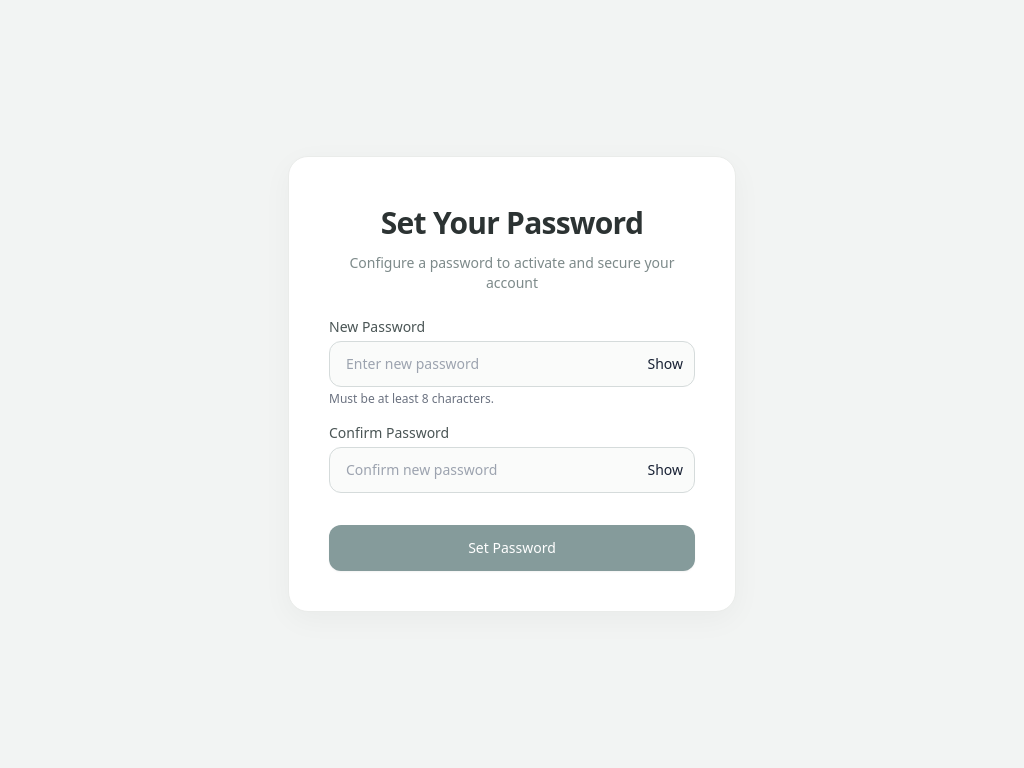
Test case: ResetPasswordConfirmPage › renders fields and handles success flow
Expected: the password field labelled "Confirm Password" is shown, left=329, top=447, right=695, bottom=493
Type "NewPassword123!" into the password field labelled "New Password" at (512, 364), box left=329, top=341, right=695, bottom=387
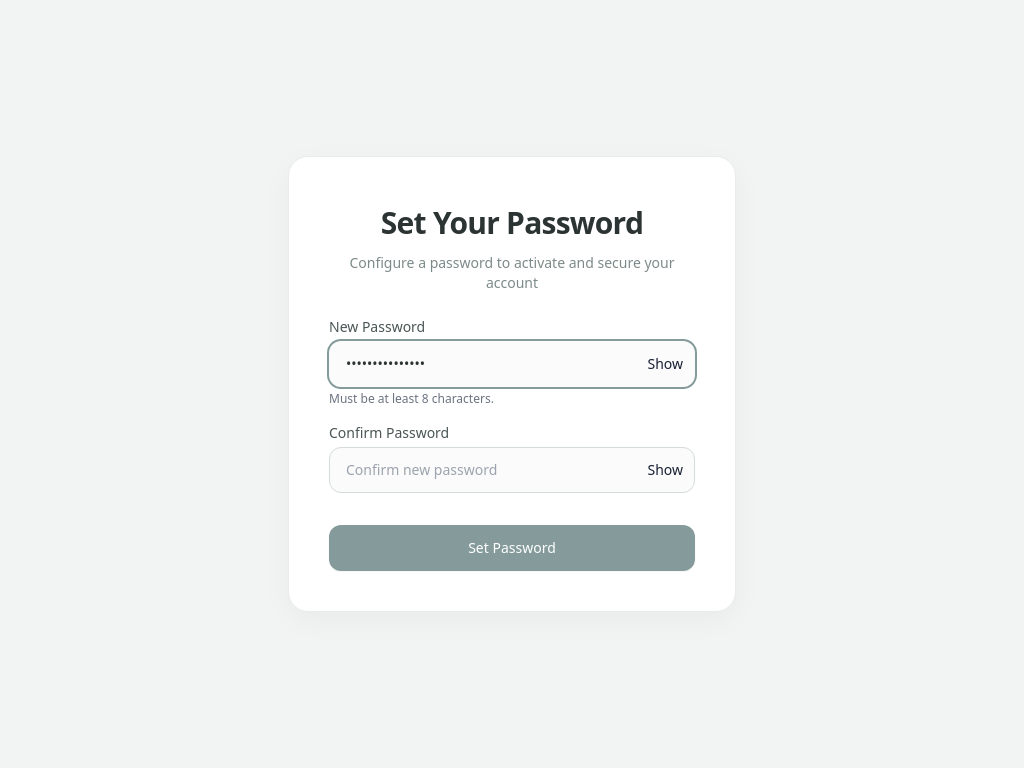
Type "NewPassword123!" into the password field labelled "Confirm Password" at (512, 470), box left=329, top=447, right=695, bottom=493
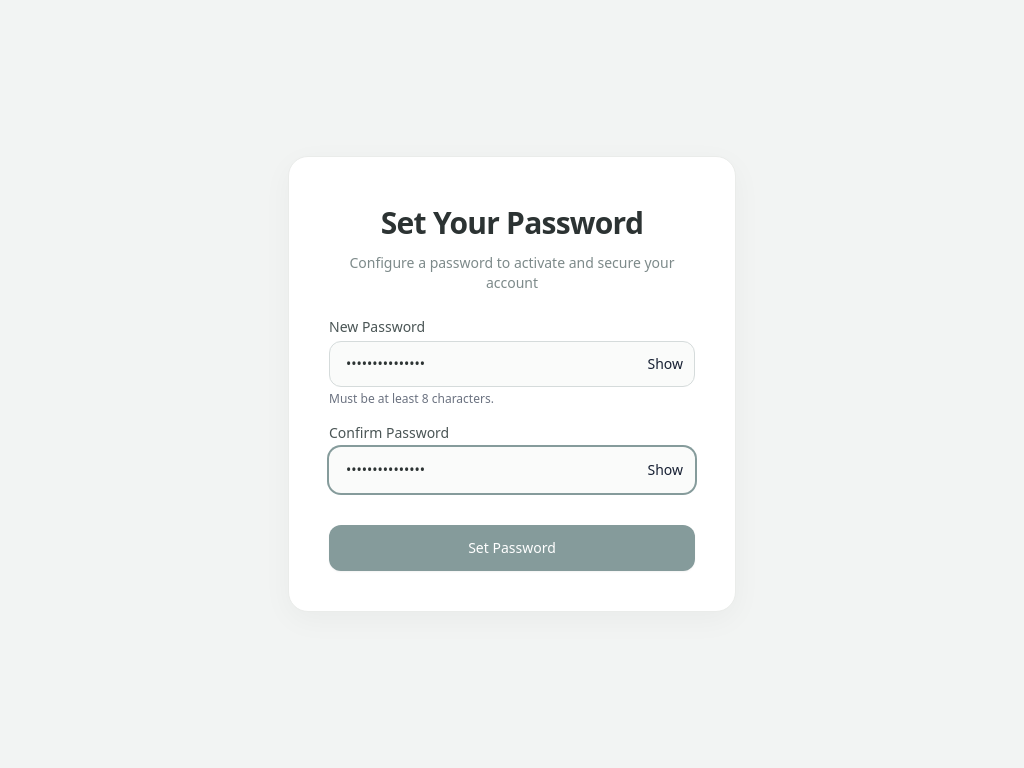
Click the button "Set Password" at (512, 548), box left=329, top=525, right=695, bottom=571
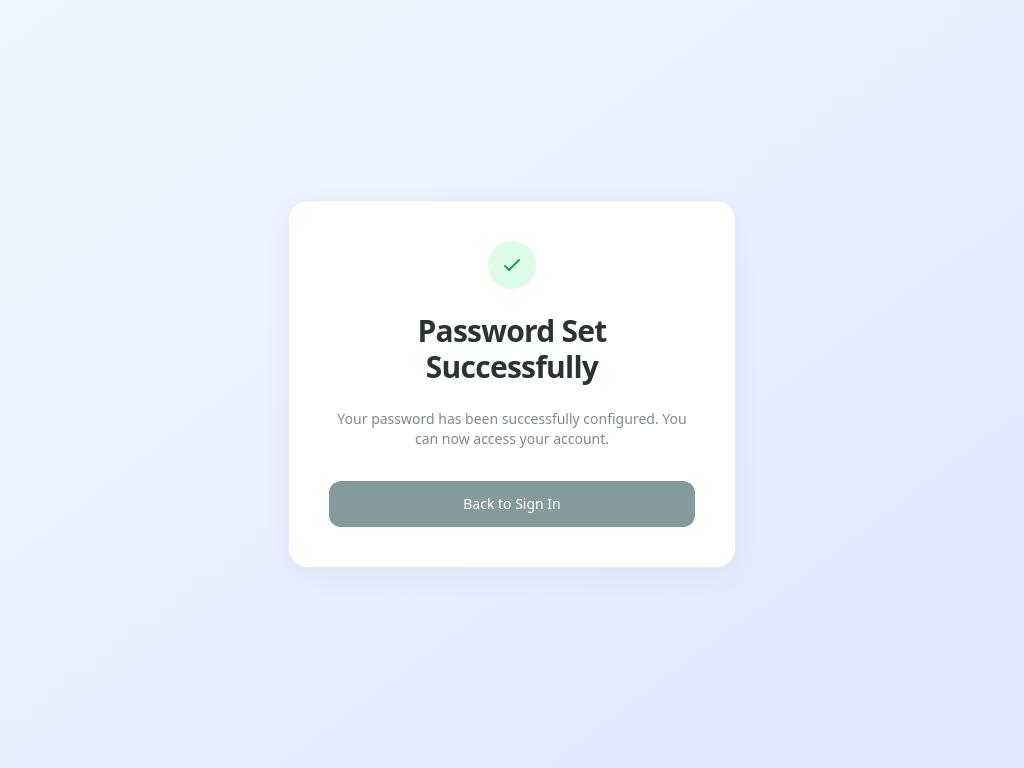
Result: the heading "Password Set Successfully" is shown at left=417, top=310, right=606, bottom=387
